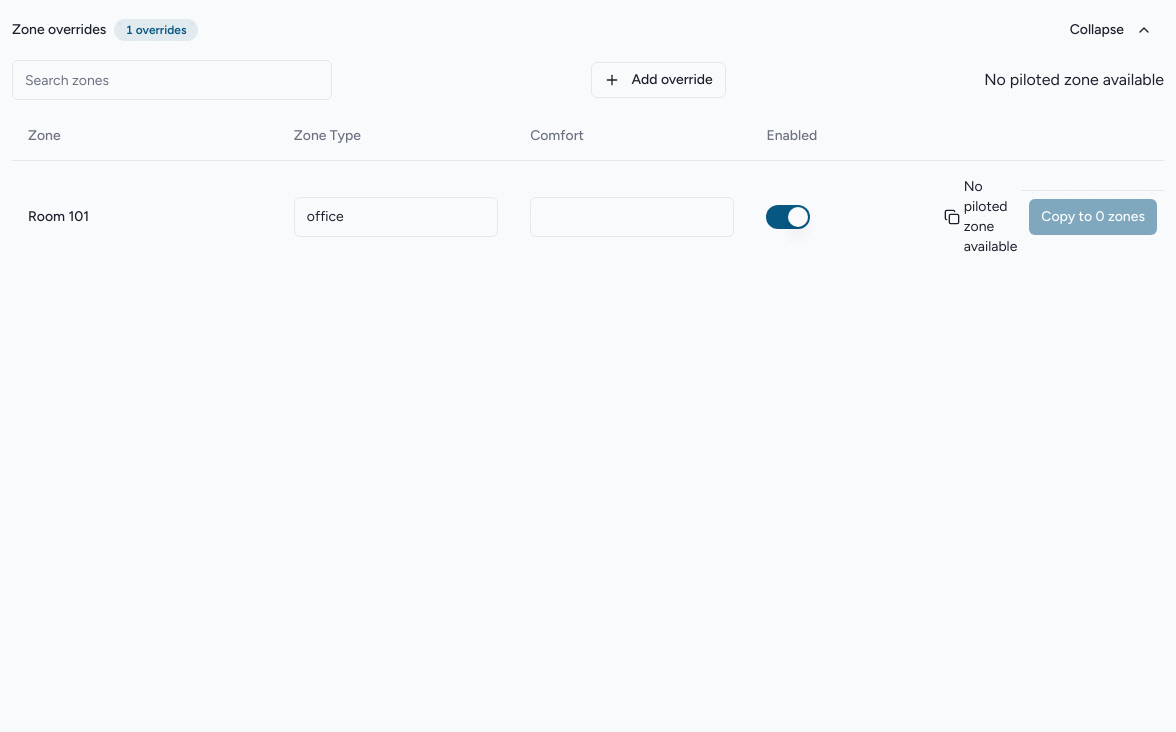
it: ZoneOverridesField › collapses and expands, showing the override count either way
Expected: the text "1 overrides" is shown, x1=114 y1=19 x2=198 y2=41
Expected: the text "Room 101" is shown, x1=12 y1=160 x2=278 y2=272
Step 1. Click the button "Collapse" → click(1111, 30), box x1=1058 y1=12 x2=1164 y2=48
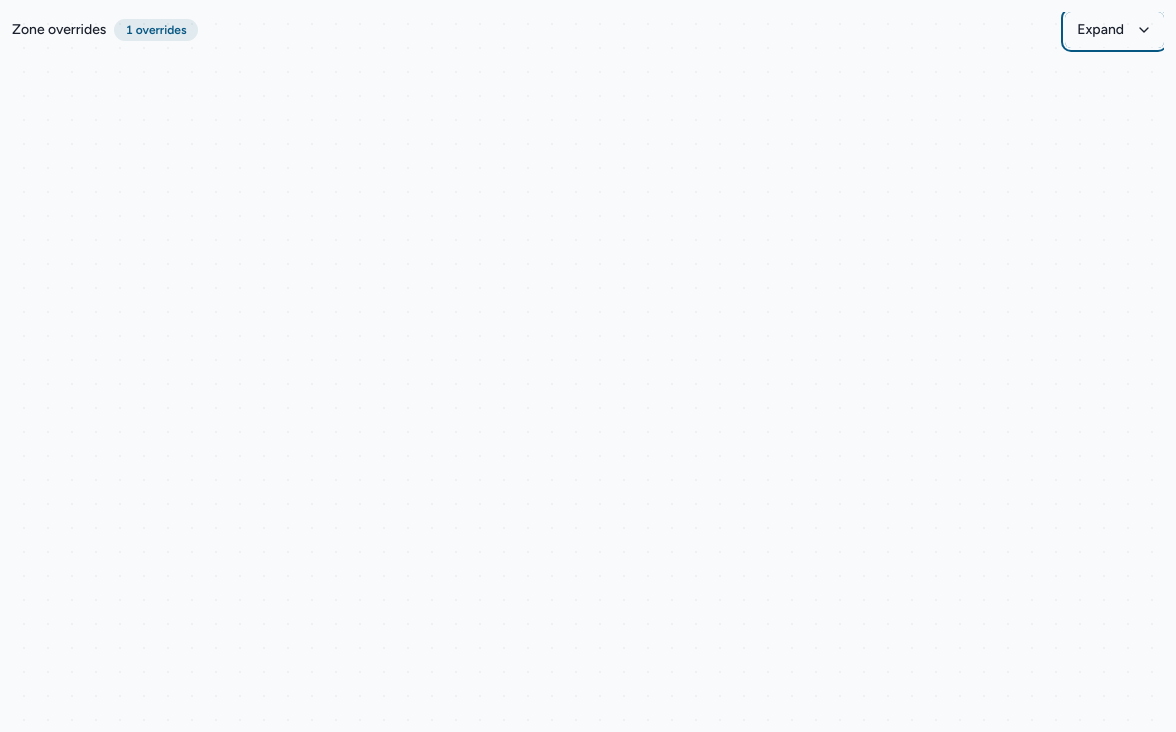
Expected: the text "1 overrides" is shown, x1=114 y1=19 x2=198 y2=41
Expected: the text "Room 101" is gone
